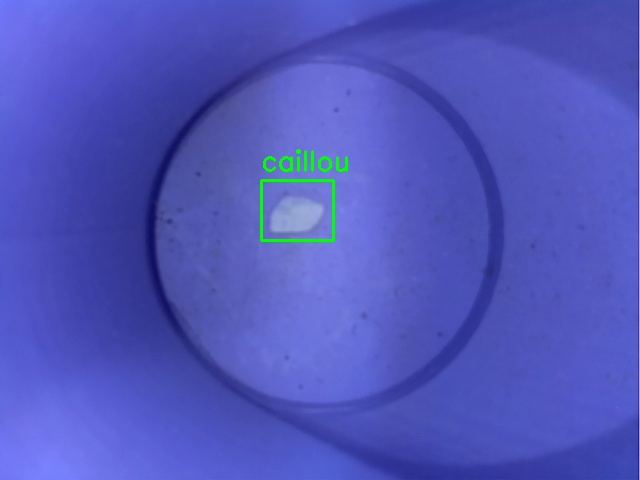caillou: (261, 180, 333, 240)
